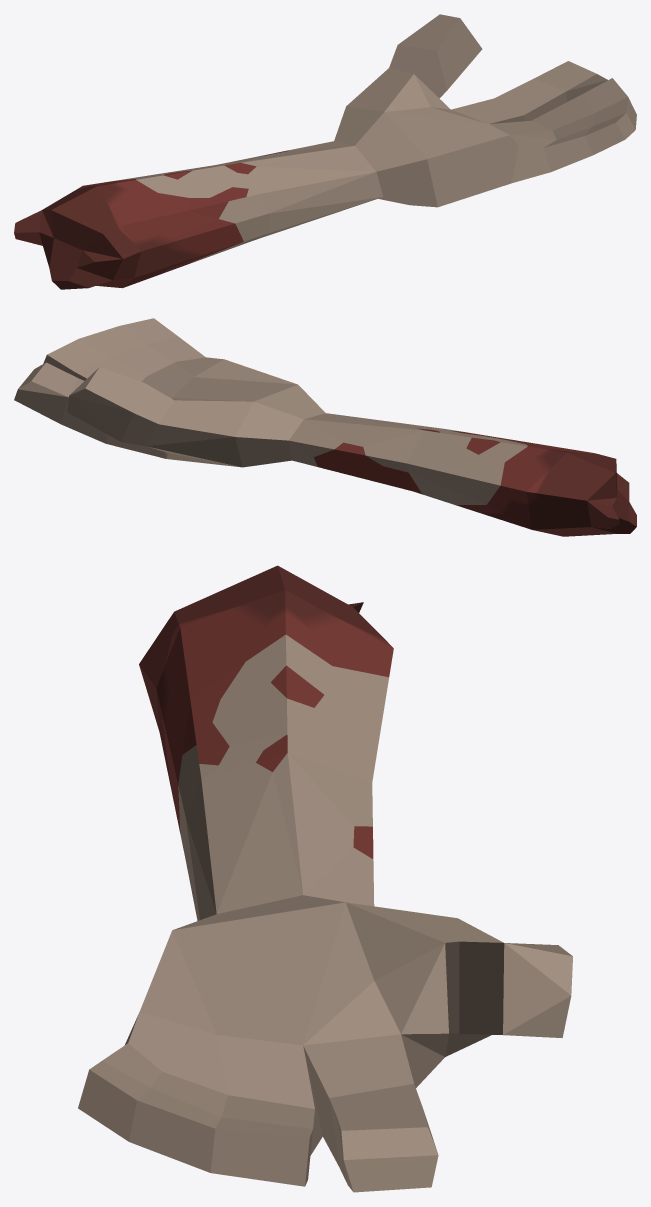
Rendered from SM_Prop_Limb_01.fbx.
3 views of the same model, one above another, from view 1: azimuth 30°, elevation 25°; view 2: azimuth 150°, elevation 25°; view 3: azimuth 270°, elevation 25° (orthographic). The views are drawn at different scales.
Parts seen in each view (by area): view 1: SM_Prop_Limb_01; view 2: SM_Prop_Limb_01; view 3: SM_Prop_Limb_01.
Part boxes in pixels (box(x1,y1,x2,y2)): SM_Prop_Limb_01: box(14, 14, 636, 289); SM_Prop_Limb_01: box(14, 318, 636, 536); SM_Prop_Limb_01: box(78, 565, 572, 1192).
Size of the model in its own units: 51.65 by 10.11 by 18.8.
